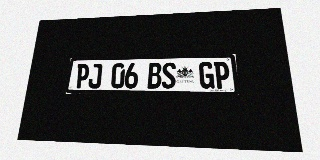0: (111, 63, 125, 88)
6: (124, 63, 139, 88)
B: (147, 63, 162, 88)
G: (199, 62, 215, 89)
J: (88, 64, 103, 88)
P: (214, 61, 230, 89), (75, 64, 90, 88)
S: (162, 62, 176, 89)
